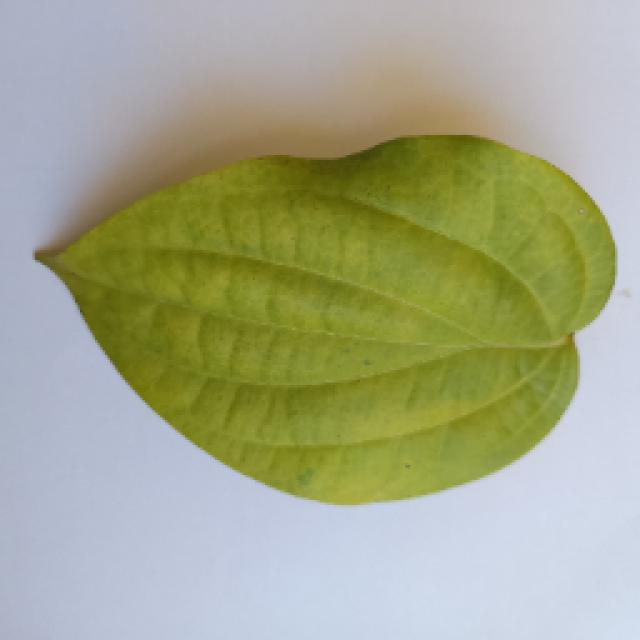slow-decline: (25, 125, 610, 505)
